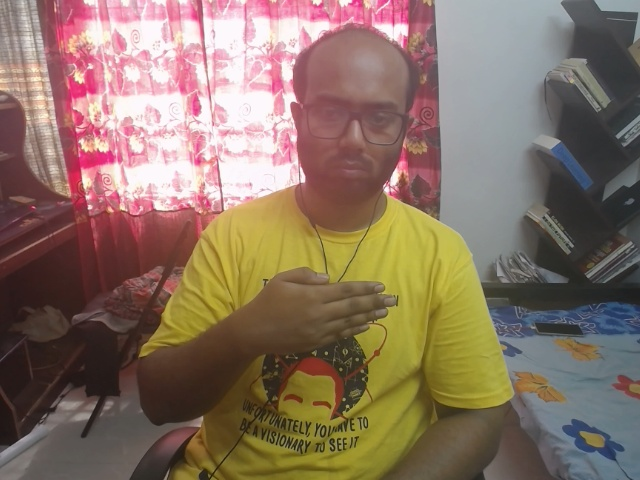north: (221, 252, 421, 391)
